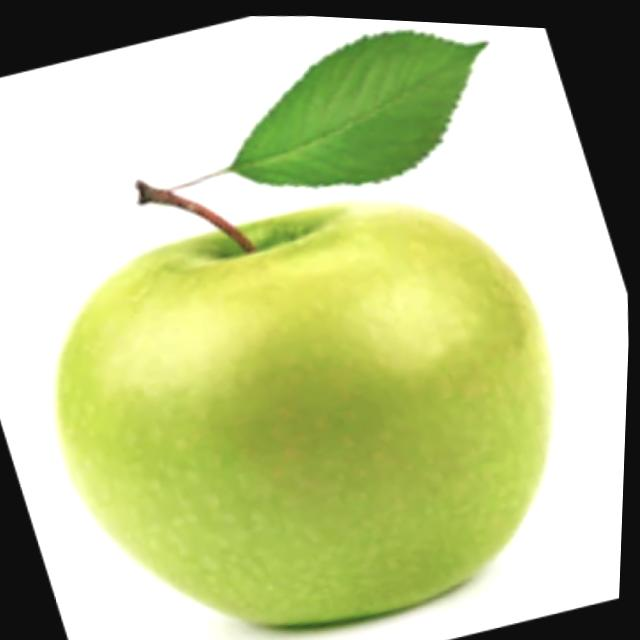organik: (69, 152, 602, 640)
